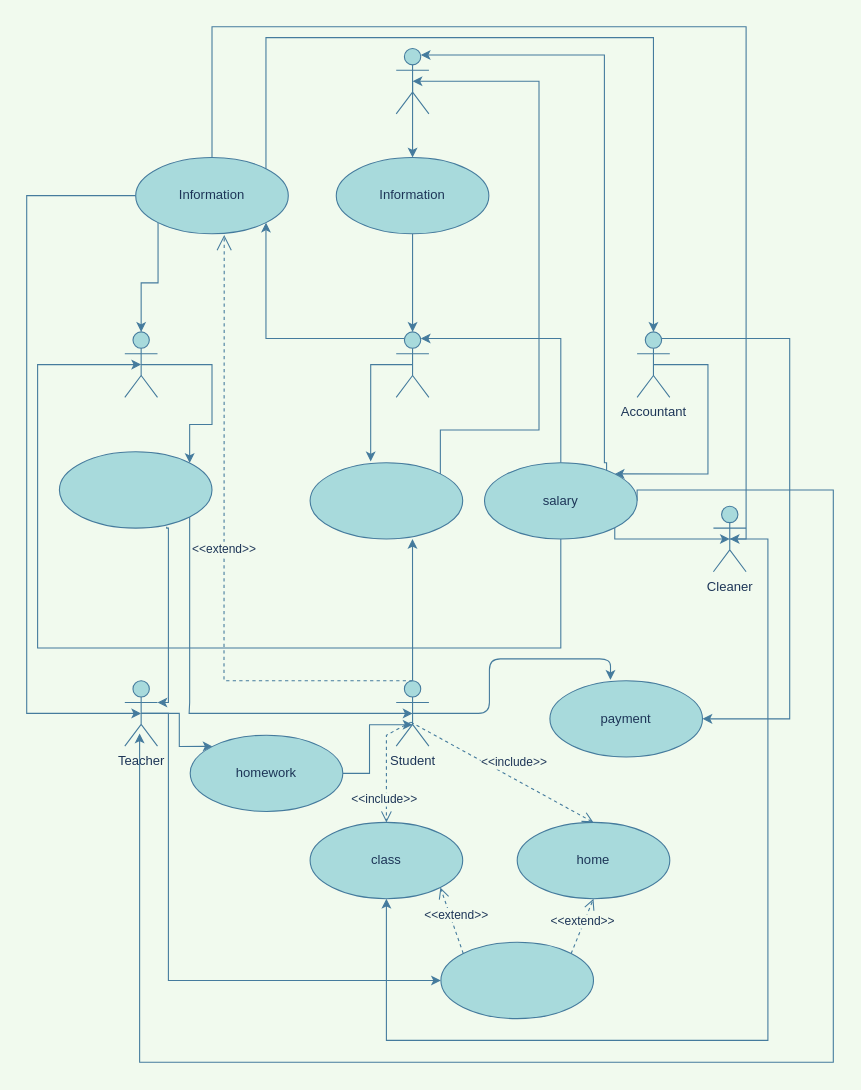
Image size: 861x1090. Some labels were removed from this diagram. Here are the shapes that lost their labels. From the top down, the centre of each, then its label:
the point at 412,80: Director
the point at 141,364: Head og department
the point at 412,364: Manager
the point at 135,489: schedule
the point at 386,500: contract
the point at 517,980: mark
